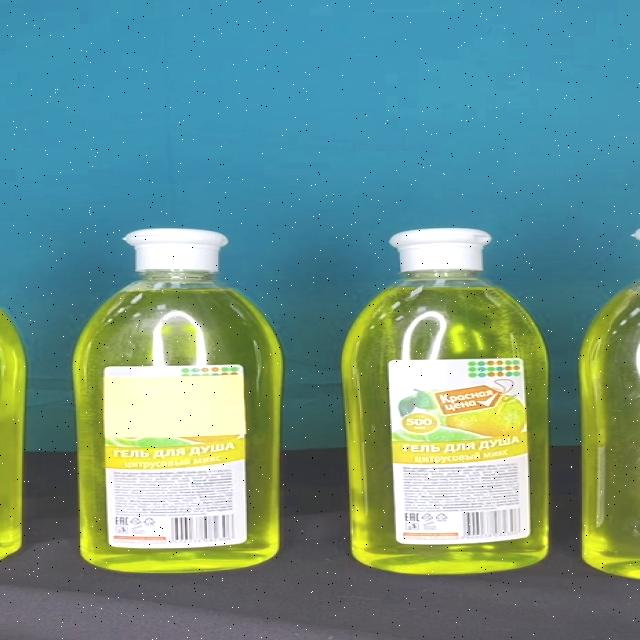Bottle: (74, 228, 282, 574), (342, 228, 548, 574)
Cap: (122, 228, 227, 272), (388, 228, 492, 270)
